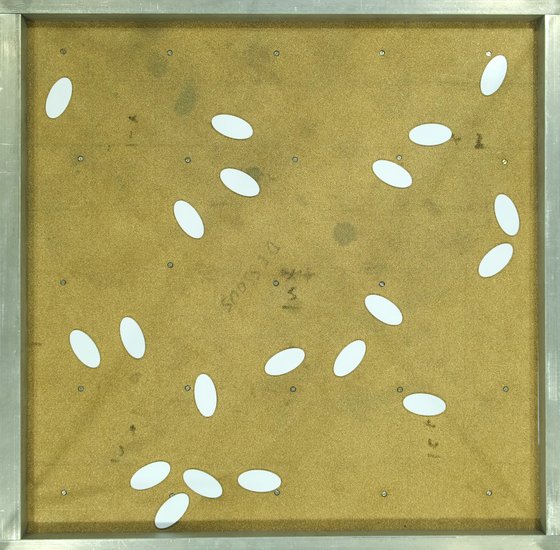pallet: (36, 76, 82, 121), (64, 327, 110, 372), (212, 105, 258, 150), (473, 51, 519, 96), (406, 111, 452, 156), (371, 150, 417, 195), (216, 160, 262, 205), (167, 196, 213, 241), (261, 339, 307, 384), (237, 458, 283, 503), (178, 458, 224, 503), (147, 485, 193, 530), (127, 451, 173, 496), (185, 372, 231, 417), (109, 314, 155, 359), (400, 383, 446, 428), (483, 191, 529, 236), (471, 237, 517, 282), (360, 287, 406, 332), (326, 336, 372, 381)
